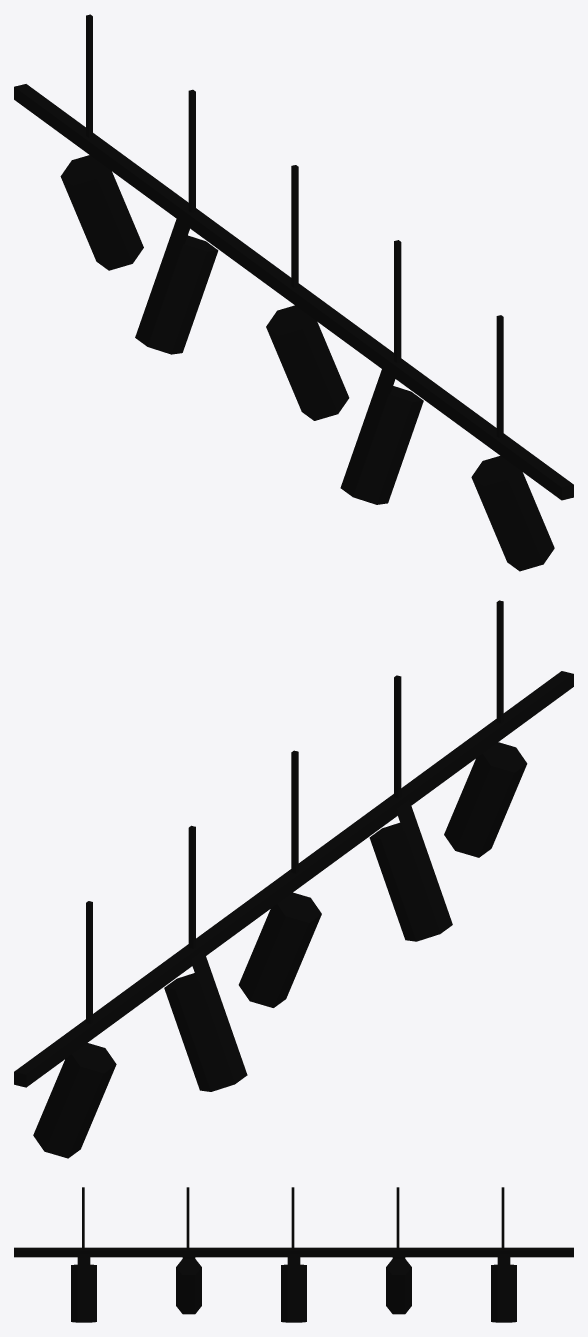
Rendered from SpotlightStrip_On.glb.
The picture shows the model from 3 angles, top to bottom: view 1: azimuth 30°, elevation 25°; view 2: azimuth 150°, elevation 25°; view 3: azimuth 270°, elevation 25°; orthographic projection. The views are drawn at different scales.
Parts seen in each view (by area): view 1: ceilingLight_5; view 2: ceilingLight_5; view 3: ceilingLight_5.
Boxes of the visible parts, x1,y1,x2,y2 form: ceilingLight_5: (14,14,573,571); ceilingLight_5: (14,600,573,1158); ceilingLight_5: (14,1187,573,1322).
Size of the model in its own units: 0.291 by 0.7136 by 2.79.
Materials: 1 (1 with a texture image).
